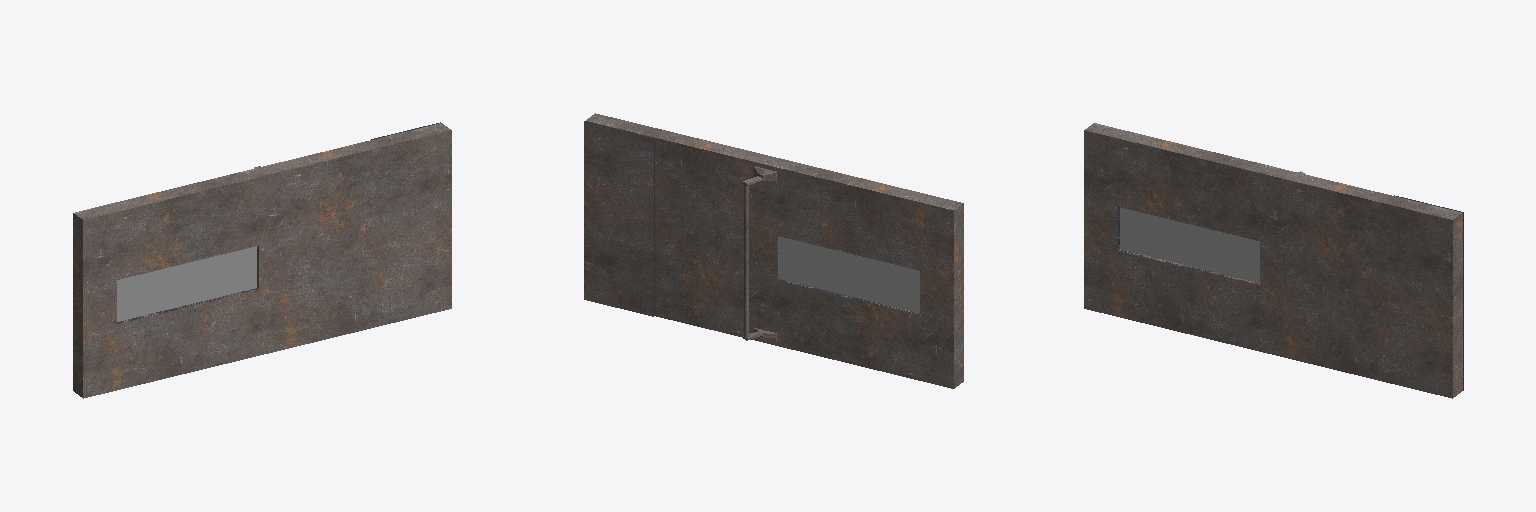
The picture shows the model from 3 angles: view 1: azimuth 30°, elevation 25°; view 2: azimuth 150°, elevation 25°; view 3: azimuth 330°, elevation 25°; orthographic projection.
Visible parts, largest first — view 1: FireEscapeDoor; view 2: FireEscapeDoor; view 3: FireEscapeDoor.
Boxes of the visible parts, x1=… form: FireEscapeDoor: x1=73, y1=122, x2=451, y2=398; FireEscapeDoor: x1=584, y1=113, x2=963, y2=388; FireEscapeDoor: x1=1084, y1=123, x2=1463, y2=398.
Bounding box in the file's own units: 2.12 × 0.9819 × 0.2305.
Materials: 4 (1 with a texture image).